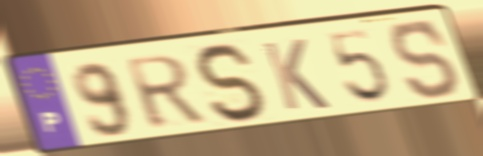5: (324, 26, 395, 106)
9: (69, 60, 135, 138)
K: (258, 36, 334, 113)
R: (121, 52, 210, 132)
S: (191, 41, 273, 126), (389, 18, 464, 102)
